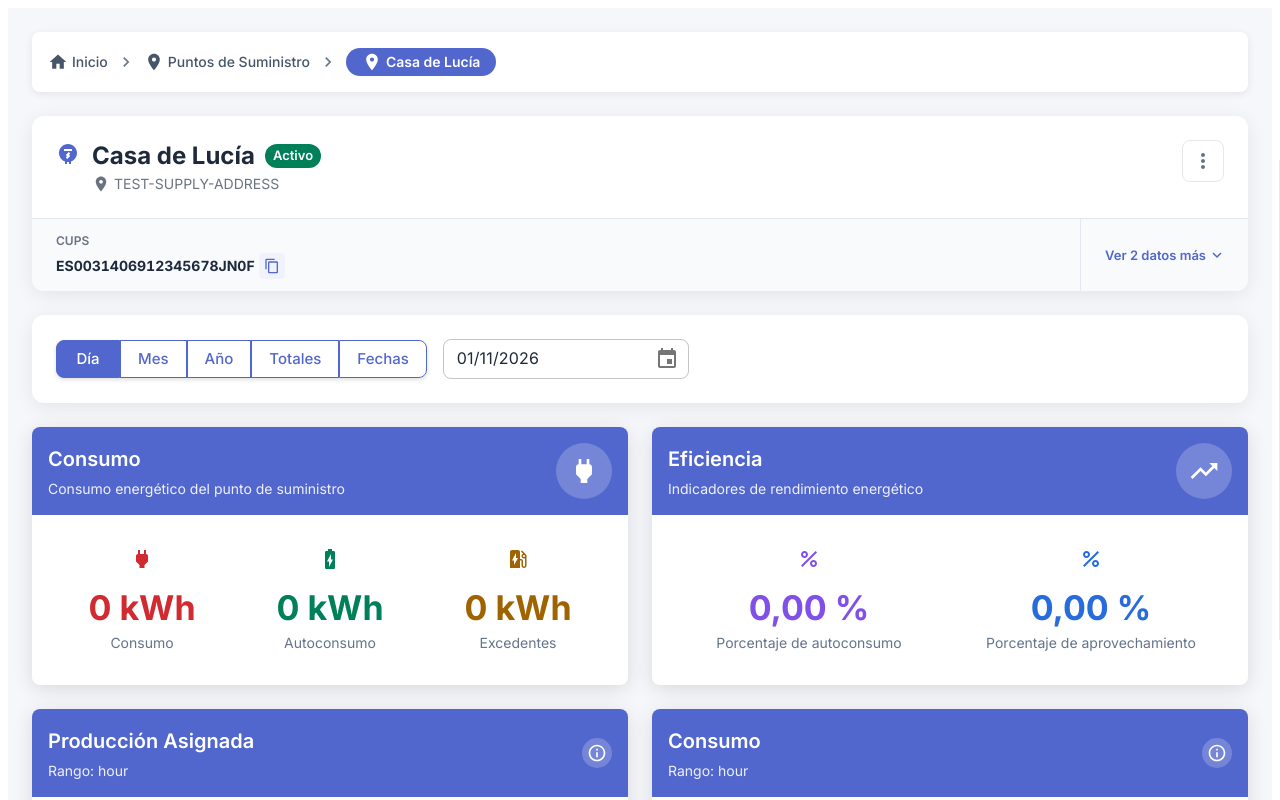
deleting a supply from its detail page › UI-SUP-003 returns to the supply list, without reading the deleted supply again
The width and height of the screenshot is (1280, 800).
Click the button named "Más opciones del punto de suministro": (1203, 161) x1=1182 y1=140 x2=1224 y2=182
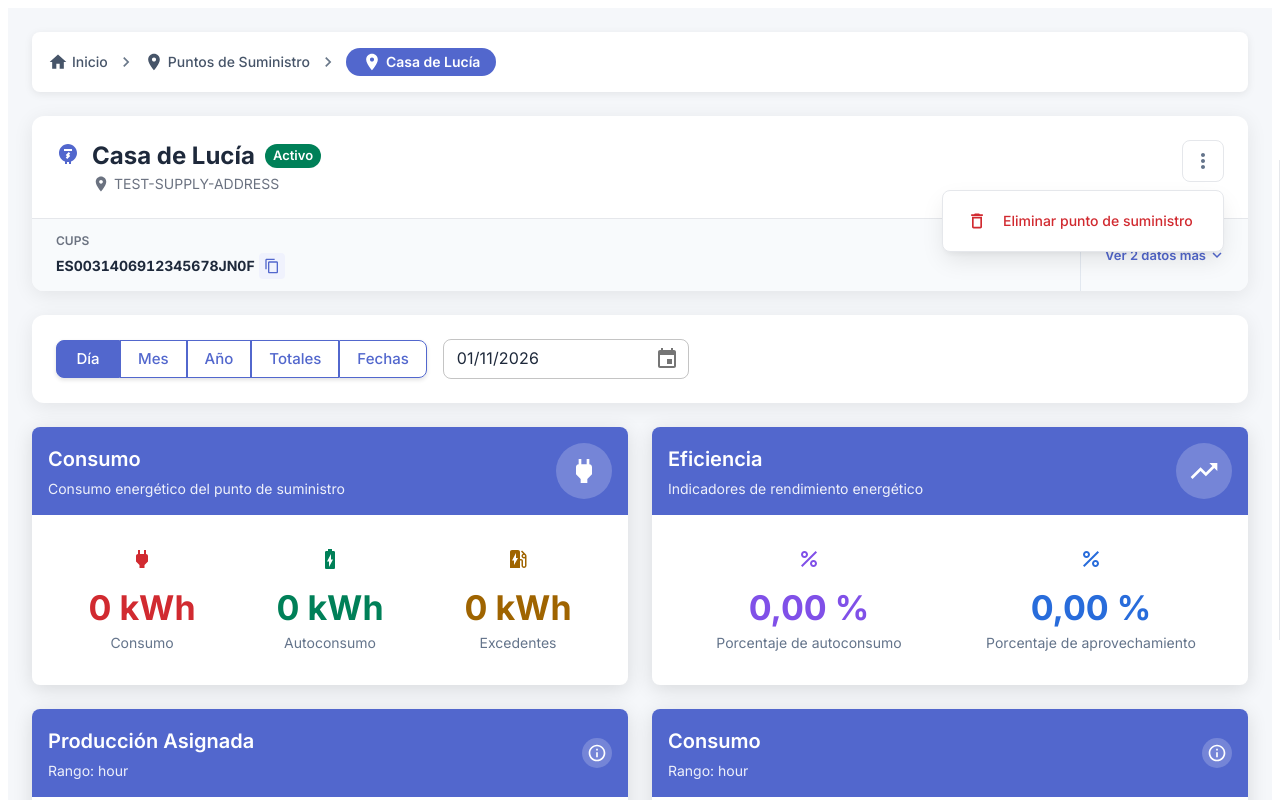
Click the menu item "Eliminar punto de suministro": (1080, 221) x1=967 y1=211 x2=1193 y2=231
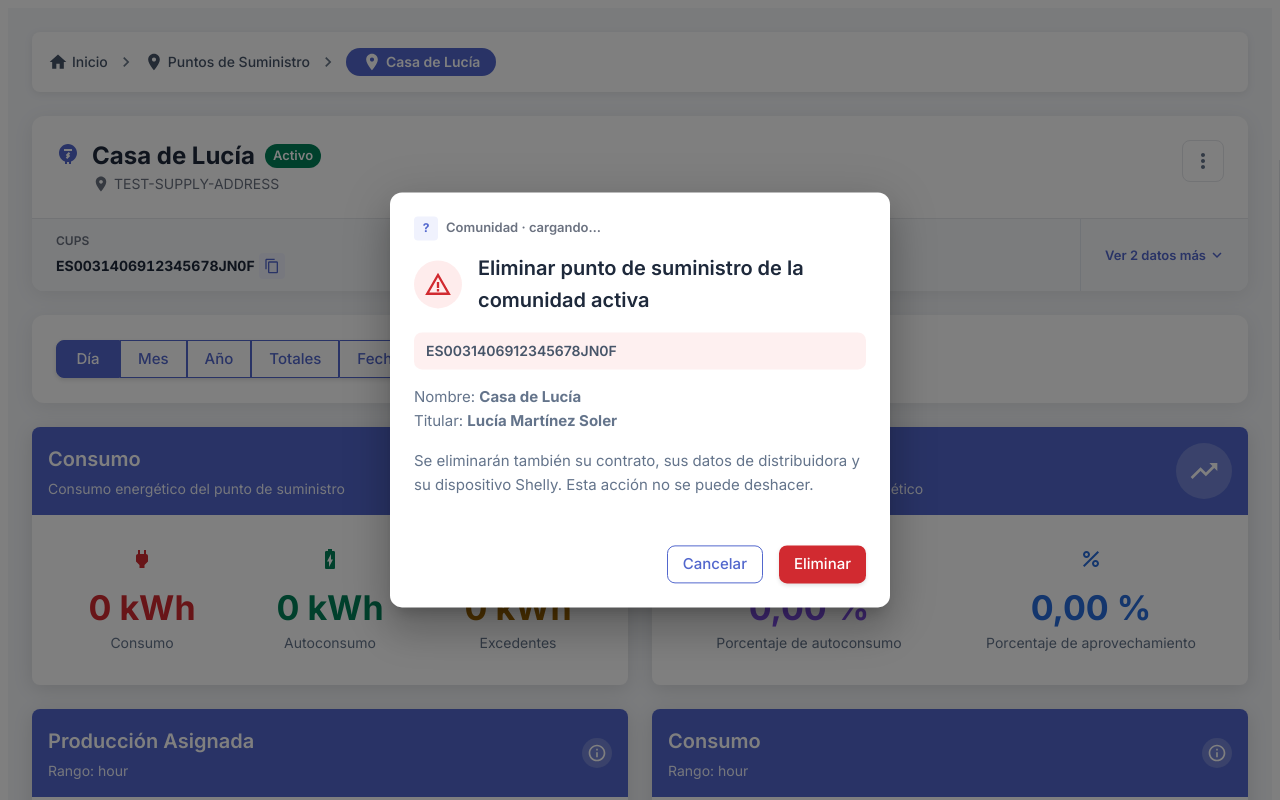
Expected: the heading "Eliminar punto de suministro de la comunidad activa" is shown, x1=478 y1=256 x2=804 y2=312
Click the button "Eliminar": (822, 565) x1=779 y1=545 x2=866 y2=584
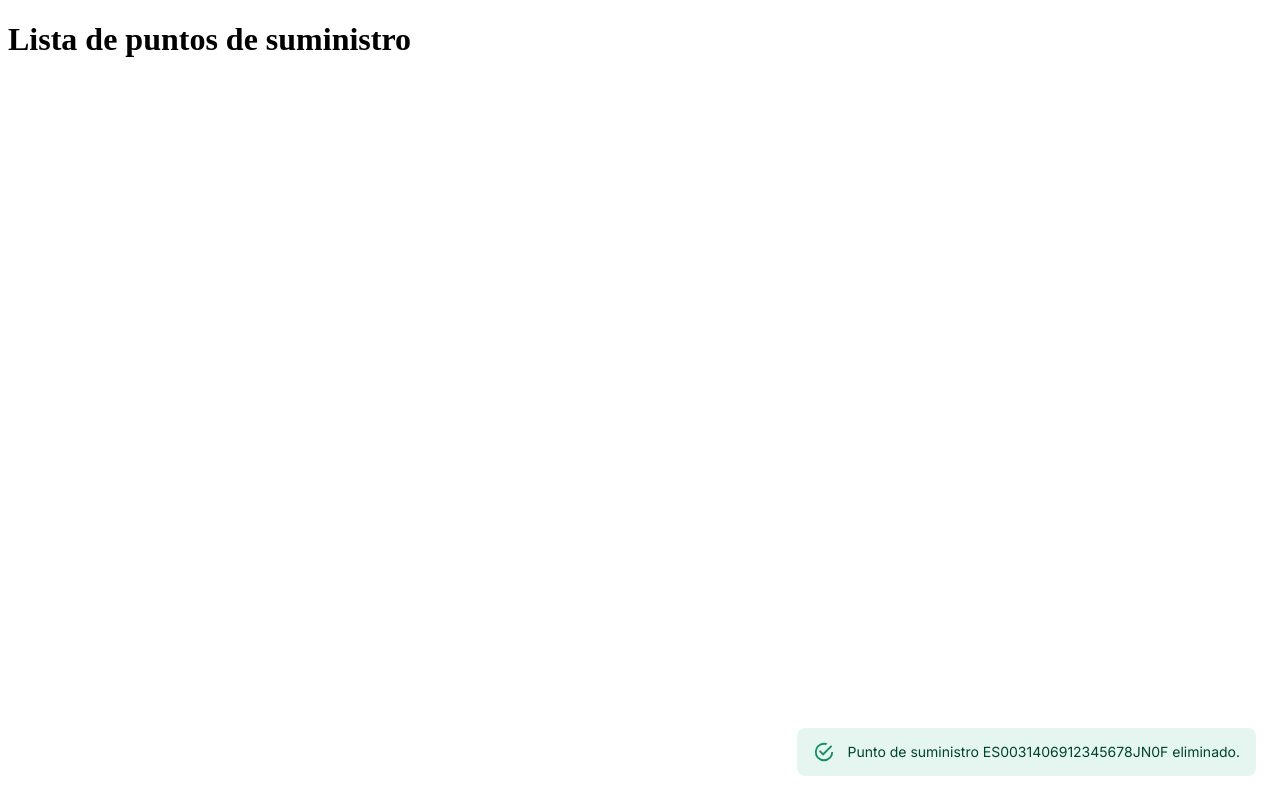
Expected: the heading "Lista de puntos de suministro" is shown, x1=8 y1=21 x2=411 y2=57
Expected: the text "Punto de suministro ES0031406912345678JN0F eliminado." is shown, x1=848 y1=743 x2=1240 y2=760
